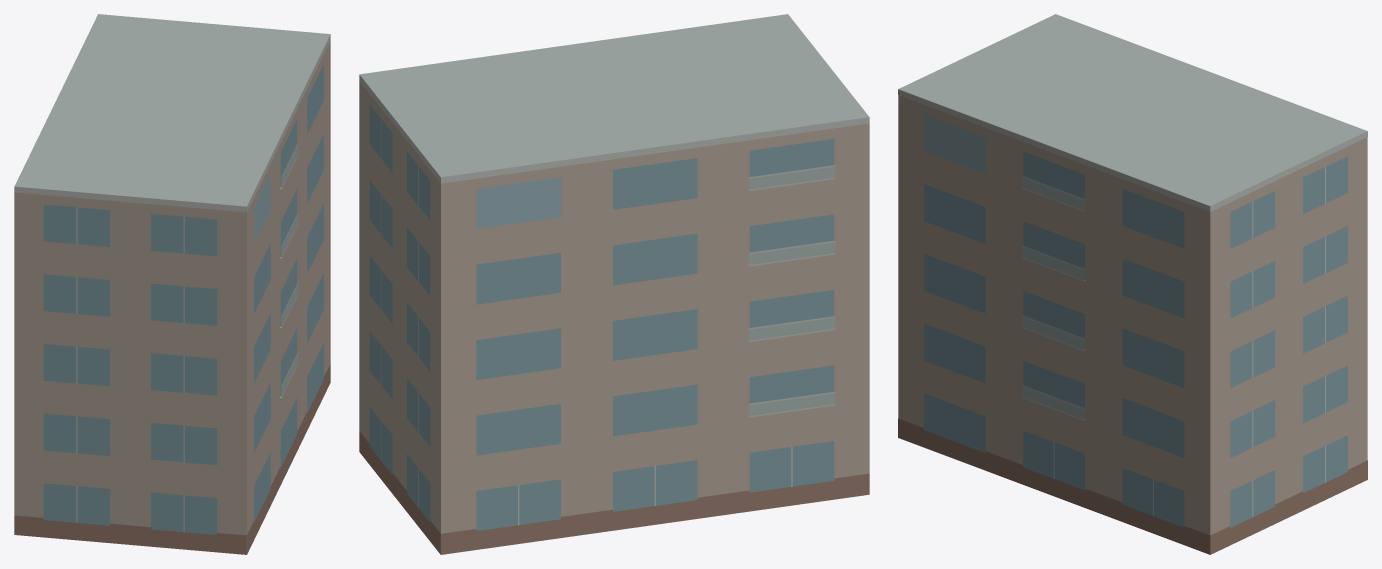
The model's file is survey-upis-32889893.glb.
3 views of the same model, side by side, from view 1: azimuth 30°, elevation 25°; view 2: azimuth 150°, elevation 25°; view 3: azimuth 270°, elevation 25° (orthographic). The views are drawn at different scales.
Parts seen in each view (by area): view 1: survey-upis-32889893.tmp; view 2: survey-upis-32889893.tmp; view 3: survey-upis-32889893.tmp.
Part boxes in pixels (x1=…): survey-upis-32889893.tmp: x1=14, y1=14, x2=330, y2=554; survey-upis-32889893.tmp: x1=359, y1=14, x2=869, y2=554; survey-upis-32889893.tmp: x1=898, y1=14, x2=1367, y2=554.
Size of the model in its own units: 17.21 by 14.55 by 17.77.
